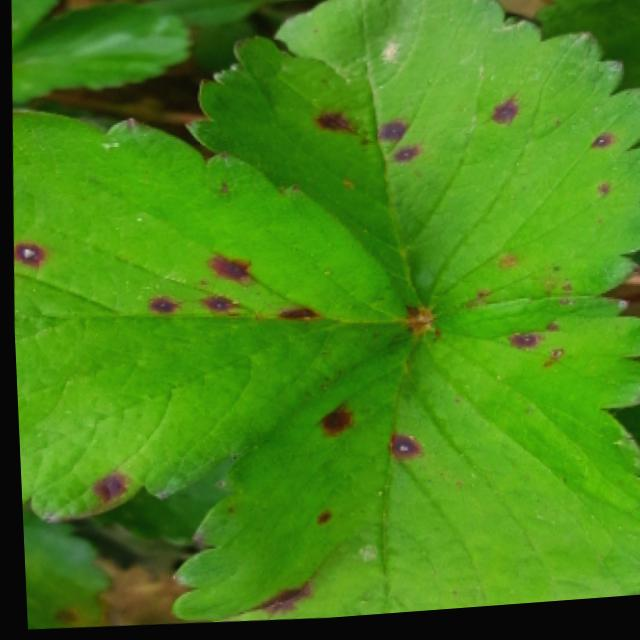Leaf Spot: (11, 107, 417, 524), (163, 304, 640, 625), (181, 0, 640, 322)
